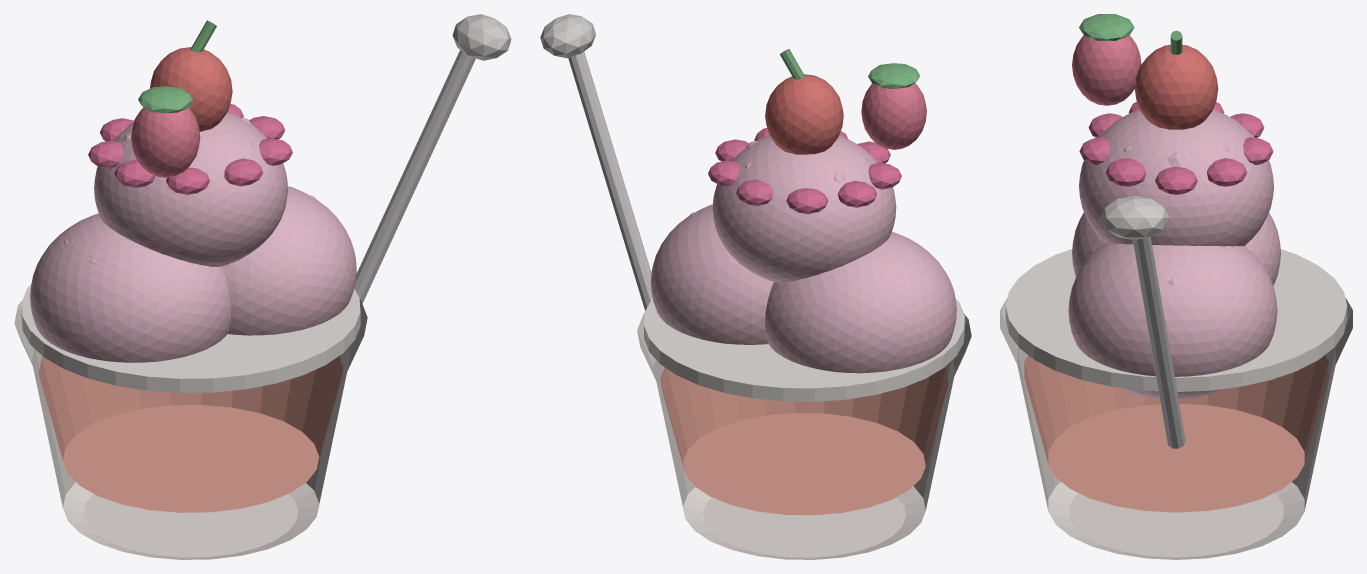
The model's file is sundae_dau.glb.
The picture shows the model from 3 angles, left to right: view 1: azimuth 30°, elevation 25°; view 2: azimuth 150°, elevation 25°; view 3: azimuth 270°, elevation 25°; orthographic projection. The views are drawn at different scales.
Parts seen in each view (by area): view 1: obj_0002, obj_0003, obj_0019, obj_0000, obj_0011, obj_0001, obj_0038, obj_0036, obj_0040, obj_0039, obj_0041, obj_0030 (+4 smaller); view 2: obj_0002, obj_0003, obj_0019, obj_0000, obj_0001, obj_0011, obj_0036, obj_0038, obj_0040, obj_0039, obj_0041, obj_0033 (+4 smaller); view 3: obj_0002, obj_0011, obj_0001, obj_0019, obj_0000, obj_0036, obj_0038, obj_0040, obj_0003, obj_0039, obj_0041, obj_0027 (+6 smaller).
Boxes of the visible parts, x1=… form: obj_0002: x1=38, y1=356, x2=343, y2=512; obj_0003: x1=30, y1=213, x2=230, y2=362; obj_0019: x1=94, y1=112, x2=287, y2=266; obj_0000: x1=14, y1=299, x2=367, y2=559; obj_0011: x1=222, y1=186, x2=356, y2=335; obj_0001: x1=21, y1=284, x2=360, y2=392; obj_0038: x1=354, y1=50, x2=475, y2=303; obj_0036: x1=150, y1=47, x2=232, y2=131; obj_0040: x1=131, y1=107, x2=200, y2=177; obj_0039: x1=452, y1=14, x2=511, y2=60; obj_0041: x1=138, y1=86, x2=193, y2=113; obj_0030: x1=166, y1=167, x2=209, y2=194; obj_0002: x1=660, y1=367, x2=948, y2=515; obj_0003: x1=765, y1=232, x2=956, y2=373; obj_0019: x1=712, y1=135, x2=896, y2=282; obj_0000: x1=637, y1=312, x2=971, y2=559; obj_0001: x1=644, y1=298, x2=964, y2=401; obj_0011: x1=650, y1=204, x2=773, y2=344; obj_0036: x1=765, y1=74, x2=843, y2=154; obj_0038: x1=568, y1=51, x2=652, y2=310; obj_0040: x1=861, y1=83, x2=926, y2=149; obj_0039: x1=540, y1=14, x2=595, y2=58; obj_0041: x1=868, y1=63, x2=920, y2=88; obj_0033: x1=786, y1=188, x2=828, y2=214; obj_0002: x1=1024, y1=355, x2=1328, y2=512; obj_0011: x1=1068, y1=243, x2=1277, y2=399; obj_0001: x1=1005, y1=249, x2=1347, y2=391; obj_0019: x1=1079, y1=109, x2=1273, y2=246; obj_0000: x1=1000, y1=297, x2=1352, y2=559; obj_0036: x1=1134, y1=45, x2=1218, y2=129; obj_0038: x1=1132, y1=237, x2=1185, y2=448; obj_0040: x1=1072, y1=35, x2=1141, y2=105; obj_0003: x1=1072, y1=212, x2=1280, y2=285; obj_0039: x1=1100, y1=195, x2=1169, y2=240; obj_0041: x1=1079, y1=14, x2=1134, y2=40; obj_0027: x1=1155, y1=166, x2=1197, y2=194.
Bounding box in the file's own units: 1.49 × 1.55 × 1.01.
